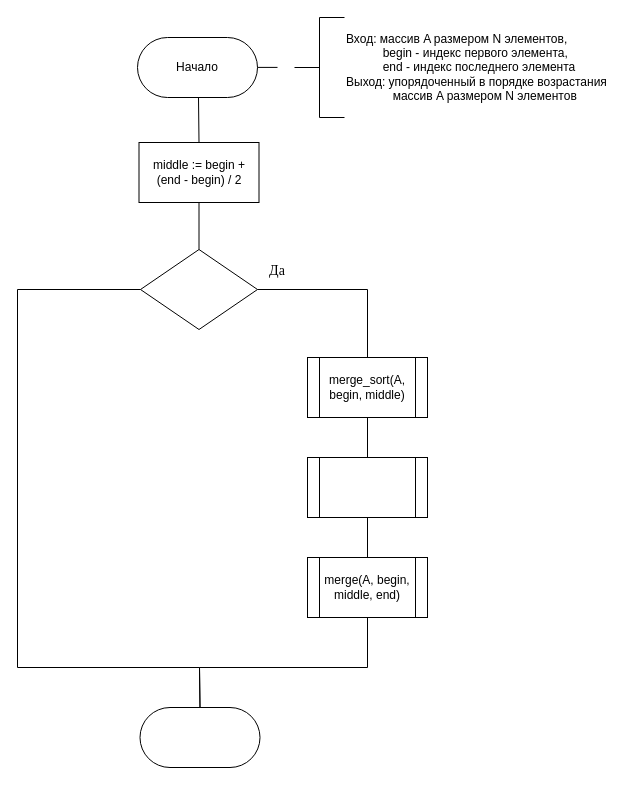
This 625x785 diagram has some shape labels left out. The shapes that lost their labels are listed below. From the top down, each one's box as (x1, y1, x2, y2) in pixels, then its label:
(140, 248, 258, 330): begin < end
(306, 456, 428, 518): merge_sort(A, middle + 1, end)
(139, 706, 260, 768): Конец
